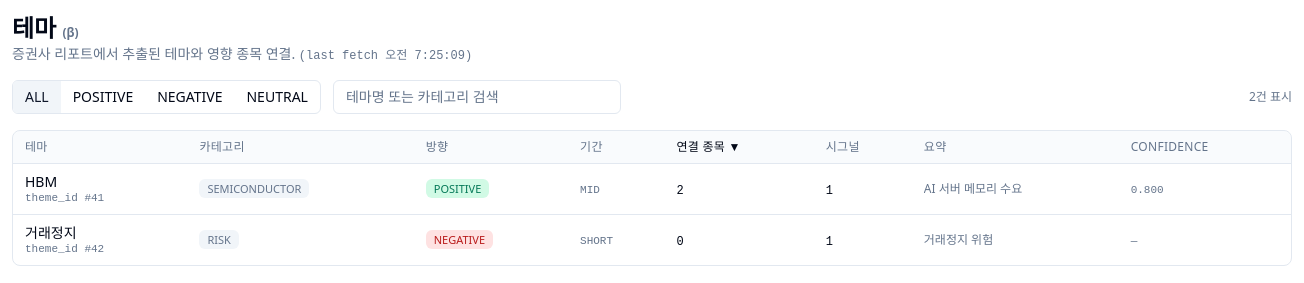
Test: ThemesPage › filters by direction via the radio group
The width and height of the screenshot is (1304, 283).
Expected: the link with test id "theme-row-41" is shown, [25,172,104,204]
Click the radio button with test id "theme-filter-NEGATIVE" at point(190, 97), box [145,81,234,113]
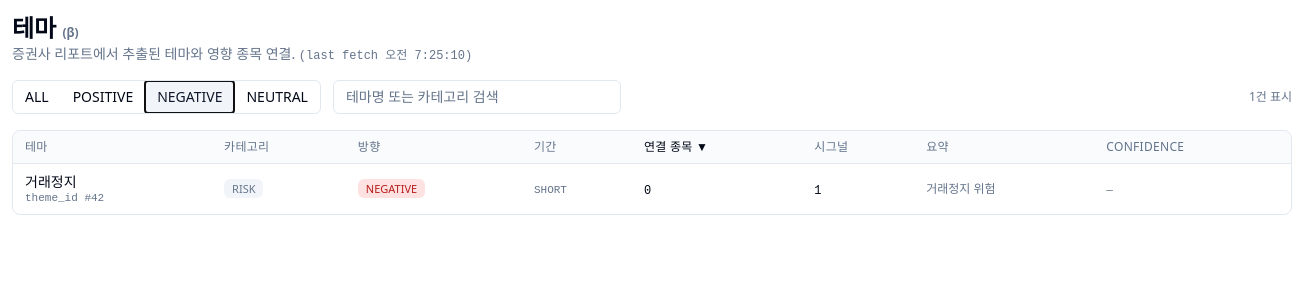
Expected: the link with test id "theme-row-42" is shown, [25,172,104,204]
Now the link with test id "theme-row-41" is gone
